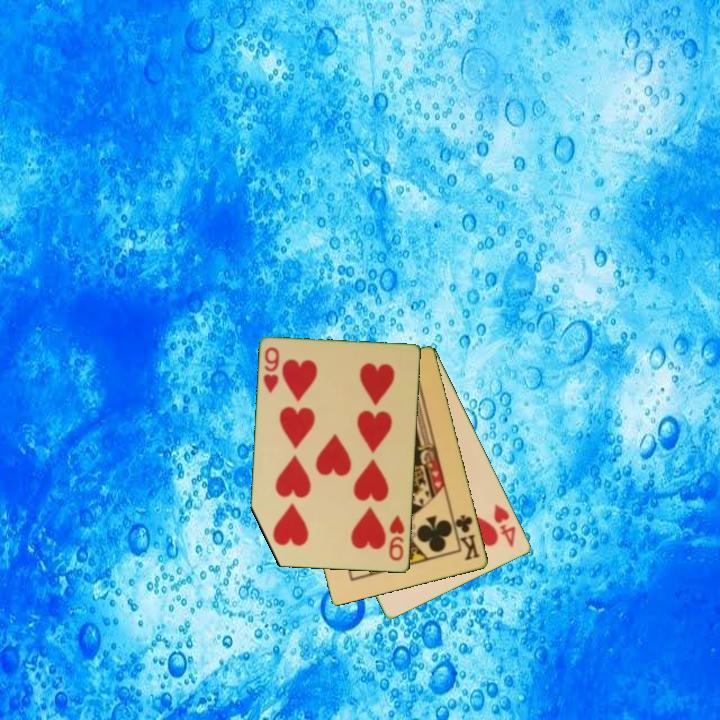4h: (490, 500, 519, 551)
9h: (260, 344, 283, 396), (386, 512, 407, 564)
Kc: (449, 511, 483, 563)
